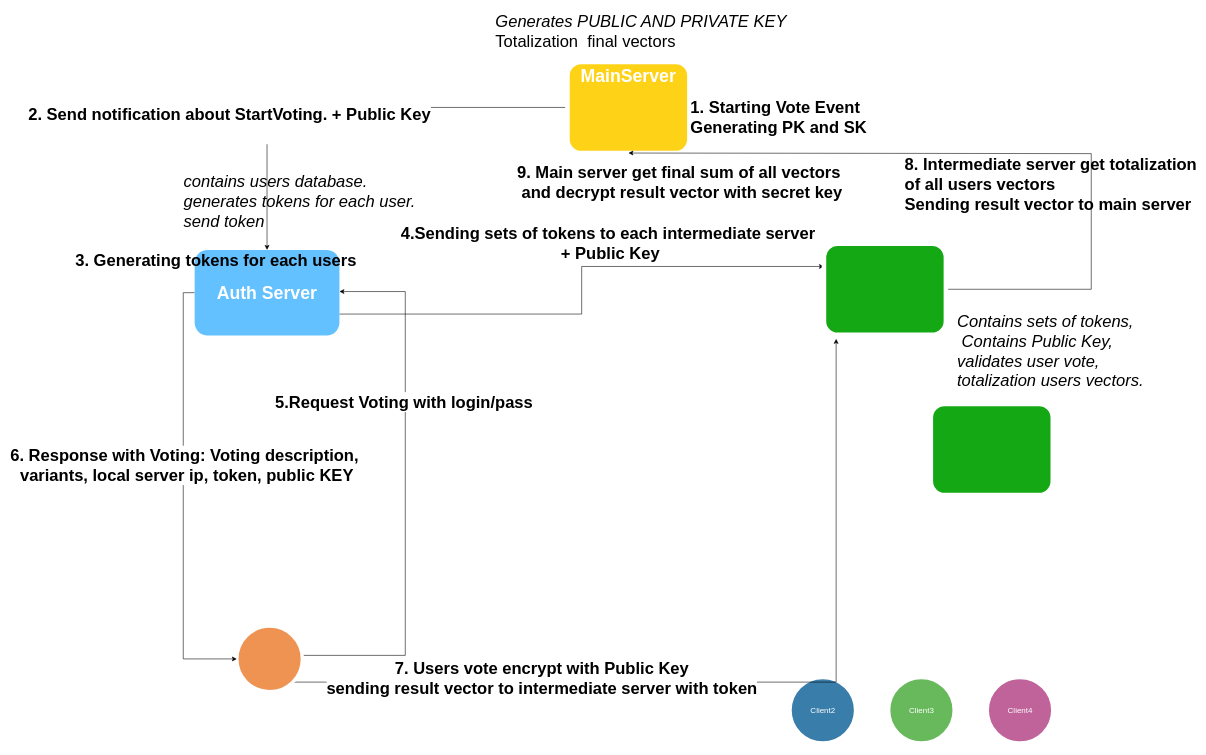
This 1206x755 diagram has some shape labels left out. Here are the shapes that lost their labels. From the top down, the centre of each, then its label:
At (884,289): "Intermediate Server 1".
At (991,449): "Intermediate Server 2".
At (269,658): "Client1".
